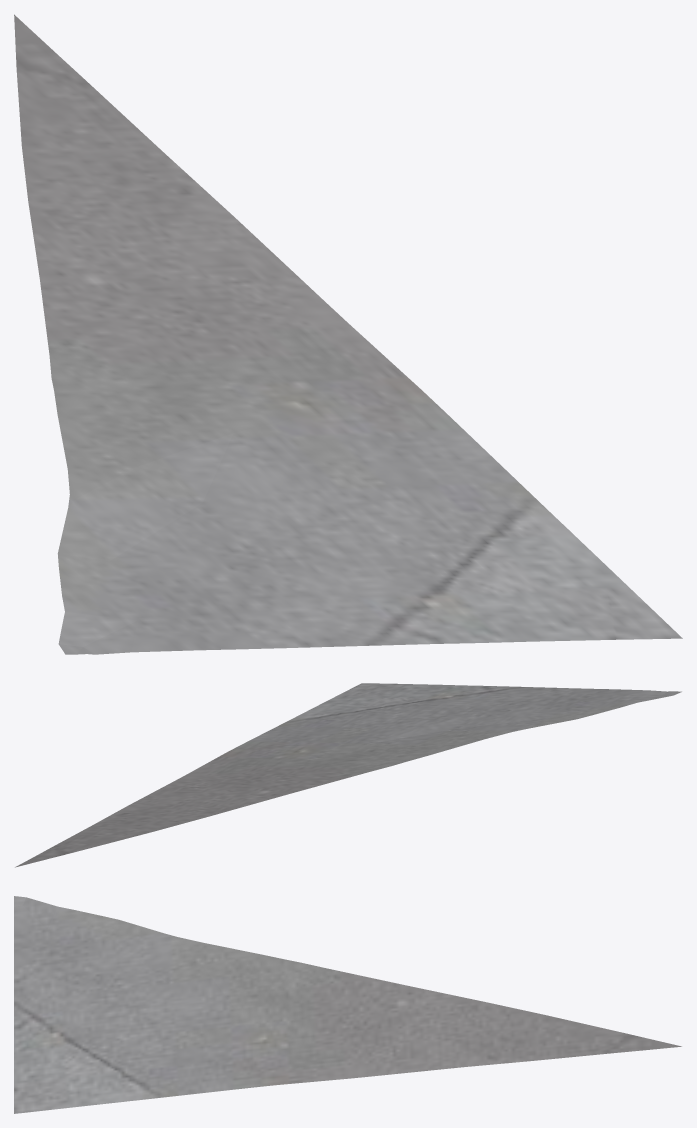
3 views of the same model, one above another, from view 1: azimuth 30°, elevation 25°; view 2: azimuth 150°, elevation 25°; view 3: azimuth 270°, elevation 25° (orthographic). The views are drawn at different scales.
Bounding box in the file's own units: 2.62 × 0.5448 × 4.91.
1 material, 1 textured.
